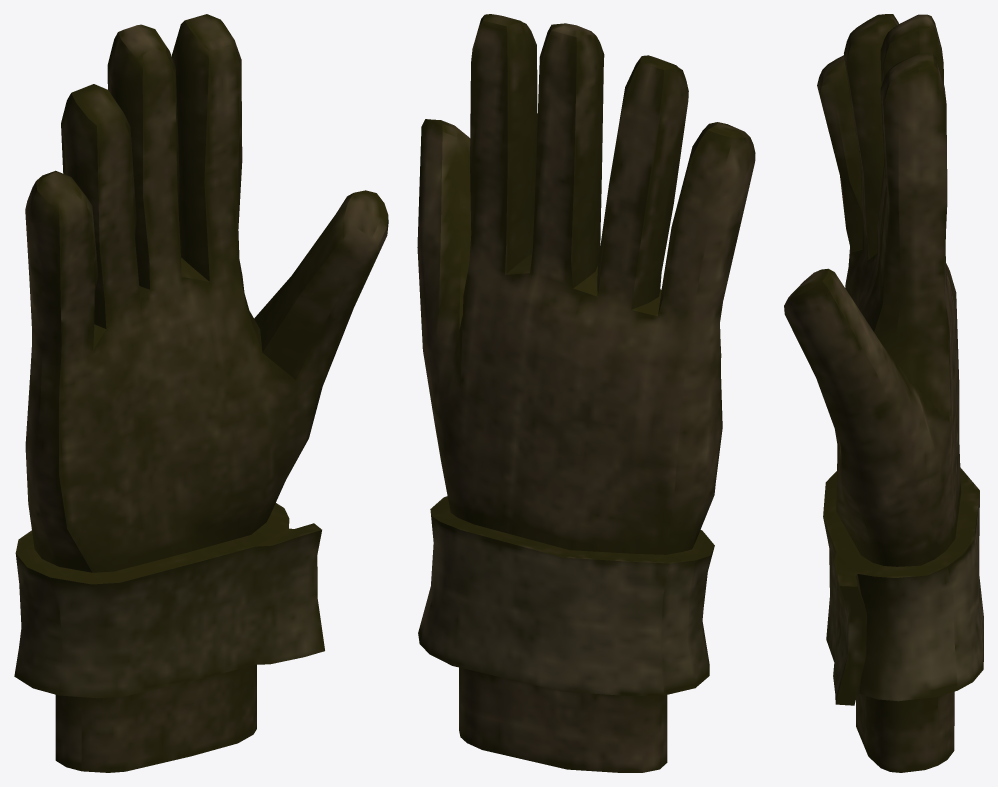
File: Right Protective Glove.fbx
3 views of the same model, side by side, from view 1: azimuth 30°, elevation 25°; view 2: azimuth 150°, elevation 25°; view 3: azimuth 270°, elevation 25° (orthographic). The views are drawn at different scales.
Parts seen in each view (by area): view 1: Right Protective Glove; view 2: Right Protective Glove; view 3: Right Protective Glove.
Boxes of the visible parts, x1,y1,x2,y2 form: Right Protective Glove: (14,14,388,772); Right Protective Glove: (417,14,755,772); Right Protective Glove: (784,14,983,772).
Bounding box in the file's own units: 10.92 × 22.35 × 5.75.
